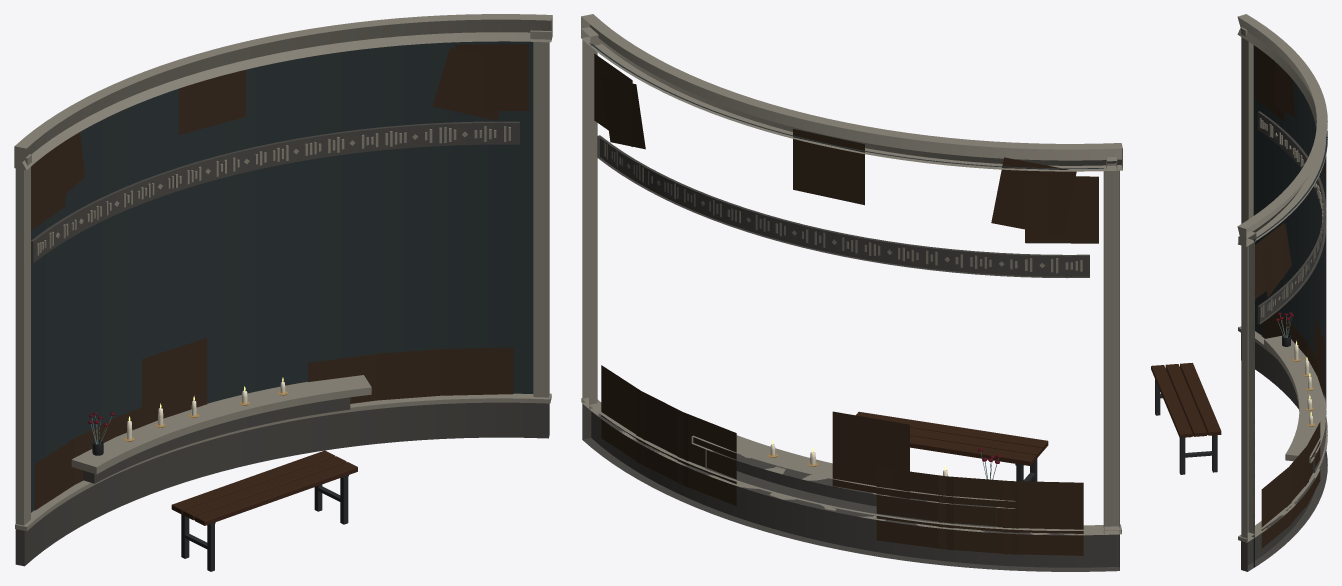
Rendered from ch3_dress_memorial.glb.
3 renders of one model, left to right at view 1: azimuth 30°, elevation 25°; view 2: azimuth 150°, elevation 25°; view 3: azimuth 270°, elevation 25°, orthographic. The views are drawn at different scales.
Visible parts, largest first — view 1: ch3_dress_memorial; view 2: ch3_dress_memorial; view 3: ch3_dress_memorial.
Part boxes in pixels (box(x1,y1,x2,y2)): ch3_dress_memorial: box(14, 14, 552, 571); ch3_dress_memorial: box(581, 14, 1122, 571); ch3_dress_memorial: box(1151, 14, 1327, 571).
Size of the model in its own units: 4.65 by 3.46 by 1.61.
